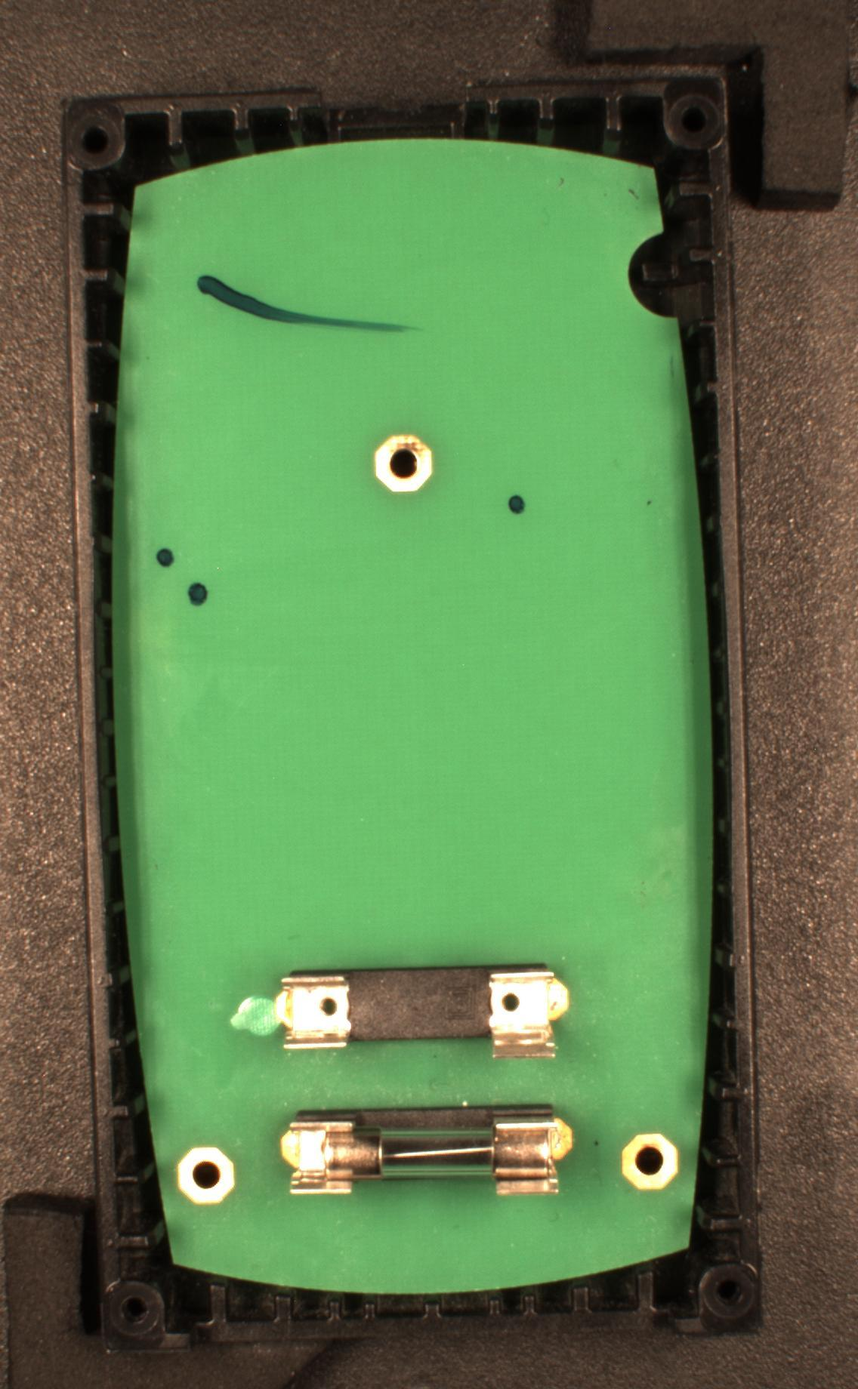Linijsko Ostecene: (196, 273, 425, 338)
Nepostojanje osiguraca: (273, 961, 569, 1060)
Tockasto Ostecenje: (188, 581, 209, 610), (506, 492, 527, 515), (156, 547, 175, 570)
